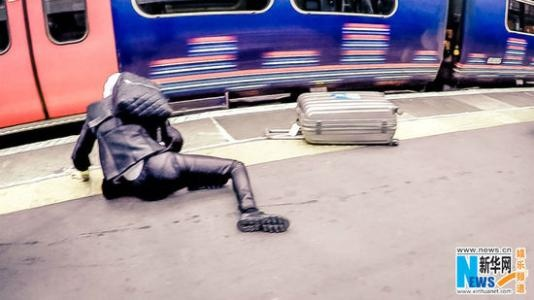falling: (63, 67, 292, 230)
